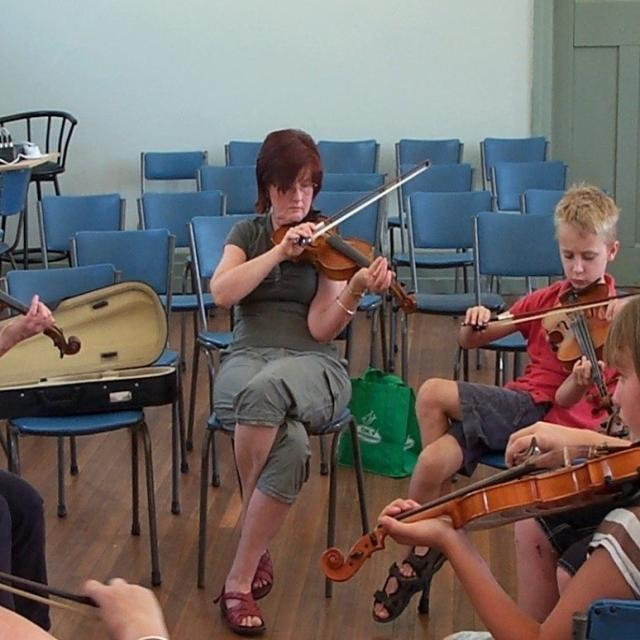violin: (315, 445, 640, 586), (272, 212, 420, 317), (538, 279, 621, 419), (0, 280, 85, 361)
